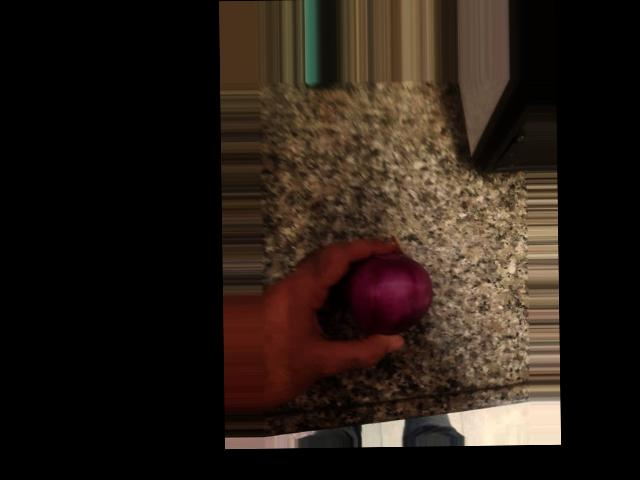onion: (429, 178, 518, 262)
